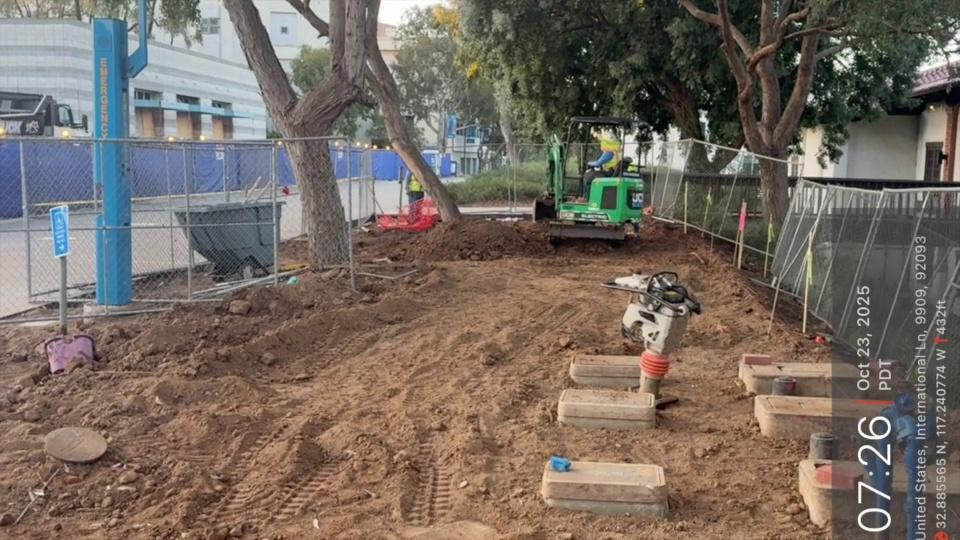Exacavator: (531, 114, 651, 247)
